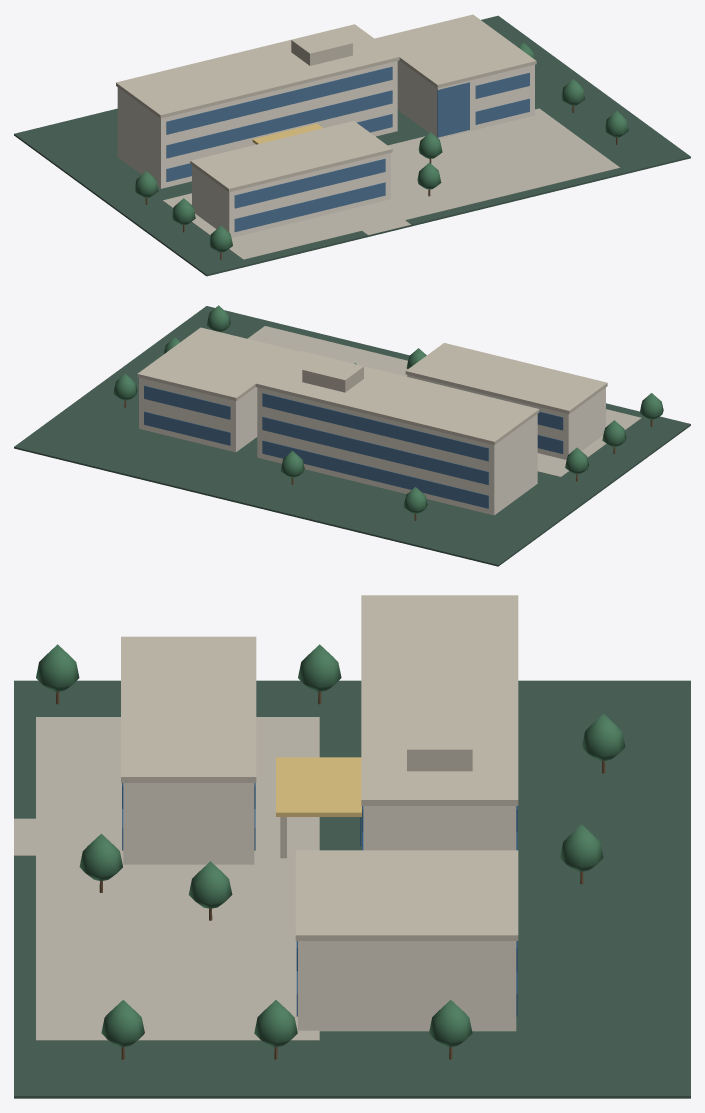
The model's file is campus-placeholder.glb.
3 renders of one model, top to bottom at view 1: azimuth 30°, elevation 25°; view 2: azimuth 150°, elevation 25°; view 3: azimuth 270°, elevation 25°, orthographic. The views are drawn at different scales.
Parts seen in each view (by area): view 1: Site_Ground, Site_Paving, Main_Block_Labs_Placeholder_Stone, Main_Block_Labs_Placeholder_Stone_Shade, Classroom_Block_Placeholder_Stone, Main_Block_Labs_Glazing_Navy, Library_Wing_Placeholder_Stone, Classroom_Block_Placeholder_Stone_Shade, Library_Wing_Placeholder_Stone_Shade, Classroom_Block_Glazing_Navy, Trees_Tree_Canopy, Library_Wing_Glazing_Navy (+1 smaller); view 2: Site_Ground, Main_Block_Labs_Placeholder_Stone, Main_Block_Labs_Placeholder_Stone_Shade, Main_Block_Labs_Glazing_Navy, Classroom_Block_Placeholder_Stone_Shade, Library_Wing_Placeholder_Stone_Shade, Library_Wing_Placeholder_Stone, Site_Paving, Trees_Tree_Canopy, Classroom_Block_Placeholder_Stone, Library_Wing_Glazing_Navy, Classroom_Block_Glazing_Navy; view 3: Site_Ground, Site_Paving, Main_Block_Labs_Placeholder_Stone_Shade, Library_Wing_Placeholder_Stone_Shade, Classroom_Block_Placeholder_Stone_Shade, Library_Wing_Placeholder_Stone, Trees_Tree_Canopy, Classroom_Block_Placeholder_Stone, Main_Block_Labs_Placeholder_Stone, Admissions_Entrance_Accent_Gold.
Boxes of the visible parts, bbox=[...] form: Site_Ground: bbox=[14, 15, 690, 276]; Site_Paving: bbox=[163, 108, 619, 259]; Main_Block_Labs_Placeholder_Stone: bbox=[117, 61, 397, 188]; Main_Block_Labs_Placeholder_Stone_Shade: bbox=[116, 24, 399, 118]; Classroom_Block_Placeholder_Stone: bbox=[192, 153, 390, 237]; Main_Block_Labs_Glazing_Navy: bbox=[166, 66, 392, 181]; Library_Wing_Placeholder_Stone: bbox=[397, 60, 534, 138]; Classroom_Block_Placeholder_Stone_Shade: bbox=[190, 121, 392, 192]; Library_Wing_Placeholder_Stone_Shade: bbox=[374, 14, 536, 88]; Classroom_Block_Glazing_Navy: bbox=[234, 158, 385, 232]; Trees_Tree_Canopy: bbox=[134, 42, 628, 252]; Library_Wing_Glazing_Navy: bbox=[437, 72, 529, 137]; Site_Ground: bbox=[14, 306, 690, 566]; Main_Block_Labs_Placeholder_Stone: bbox=[257, 387, 537, 515]; Main_Block_Labs_Placeholder_Stone_Shade: bbox=[255, 351, 539, 445]; Main_Block_Labs_Glazing_Navy: bbox=[262, 393, 488, 508]; Classroom_Block_Placeholder_Stone_Shade: bbox=[405, 343, 607, 414]; Library_Wing_Placeholder_Stone_Shade: bbox=[137, 327, 298, 401]; Library_Wing_Placeholder_Stone: bbox=[139, 377, 257, 452]; Site_Paving: bbox=[247, 326, 641, 476]; Trees_Tree_Canopy: bbox=[113, 305, 663, 513]; Classroom_Block_Placeholder_Stone: bbox=[407, 375, 605, 459]; Library_Wing_Glazing_Navy: bbox=[144, 385, 230, 445]; Classroom_Block_Glazing_Navy: bbox=[537, 411, 563, 453]; Site_Ground: bbox=[14, 680, 690, 1098]; Site_Paving: bbox=[14, 717, 319, 1040]; Main_Block_Labs_Placeholder_Stone_Shade: bbox=[361, 595, 518, 805]; Library_Wing_Placeholder_Stone_Shade: bbox=[295, 850, 518, 940]; Classroom_Block_Placeholder_Stone_Shade: bbox=[121, 636, 256, 782]; Library_Wing_Placeholder_Stone: bbox=[298, 941, 516, 1031]; Trees_Tree_Canopy: bbox=[36, 644, 625, 1047]; Classroom_Block_Placeholder_Stone: bbox=[123, 783, 254, 864]; Main_Block_Labs_Placeholder_Stone: bbox=[363, 806, 516, 850]; Admissions_Entrance_Accent_Gold: bbox=[276, 757, 361, 816].
Size of the model in its own units: 90 by 15.7 by 62.
